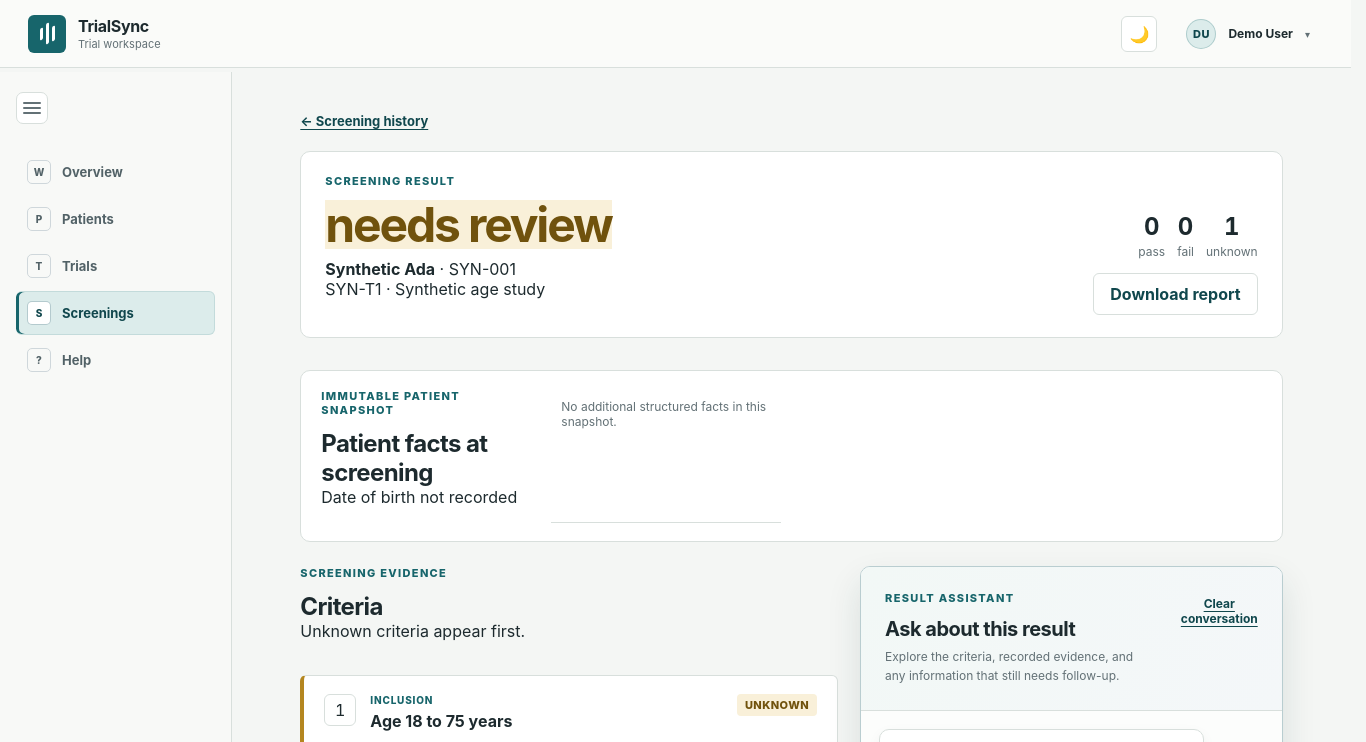
TrialSync Phase 5 screening workflow › keeps browser evidence visible when report generation fails
Expected: the heading "Age 18 to 75 years" is shown, [370, 711, 512, 731]
Click the button "Download report".
click(1176, 294)  # box [1093, 273, 1258, 315]
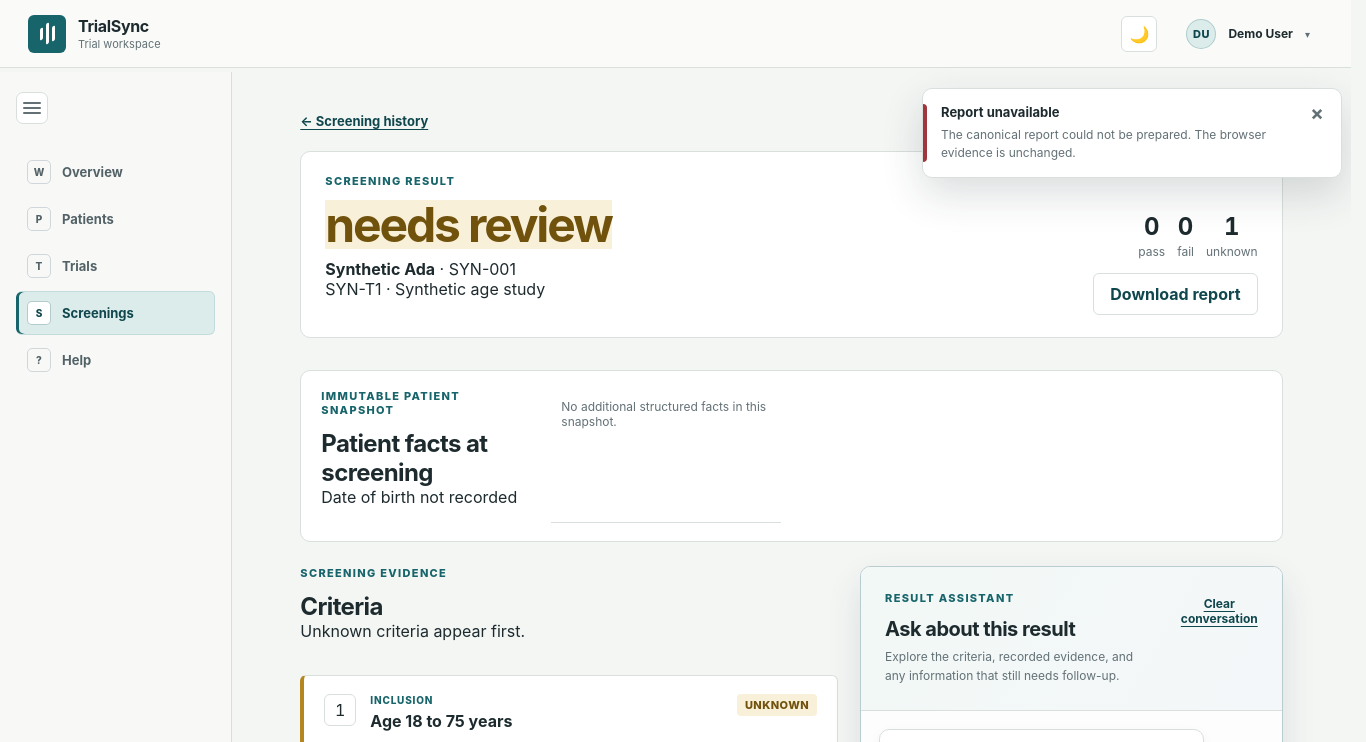
Expected: the heading "Age 18 to 75 years" is shown, [370, 711, 512, 731]
Expected: the message shows "canonical report could not be prepared", [941, 126, 1266, 160]
